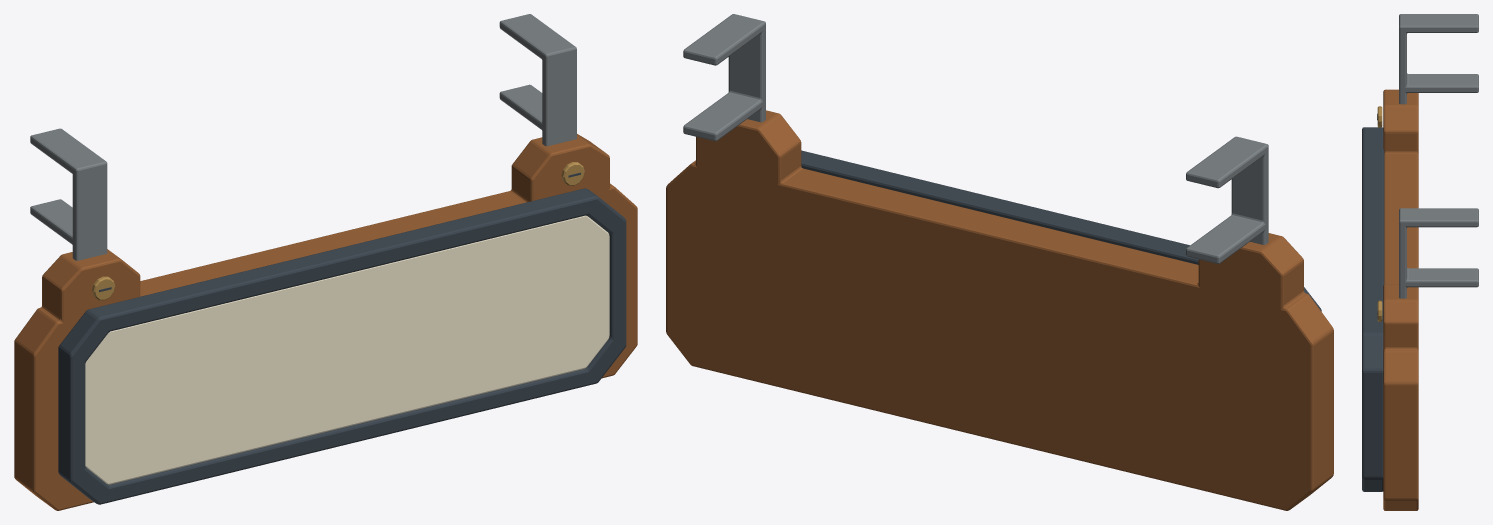
File: shed_price_plaque_v1.fbx
The picture shows the model from 3 angles, left to right: view 1: azimuth 30°, elevation 25°; view 2: azimuth 150°, elevation 25°; view 3: azimuth 270°, elevation 25°; orthographic projection. The views are drawn at different scales.
Visible parts, largest first — view 1: Plaque_CreamEnamel, Plaque_PaintedSteel, Plaque_WarmWood, Plaque_ClipSteel, Plaque_DullBrass; view 2: Plaque_WarmWood, Plaque_ClipSteel, Plaque_PaintedSteel; view 3: Plaque_WarmWood, Plaque_PaintedSteel, Plaque_ClipSteel, Plaque_DullBrass.
Part boxes in pixels (bbox=[...]): Plaque_CreamEnamel: bbox=[85, 215, 609, 484]; Plaque_PaintedSteel: bbox=[58, 172, 626, 504]; Plaque_WarmWood: bbox=[14, 134, 637, 510]; Plaque_ClipSteel: bbox=[30, 14, 576, 260]; Plaque_DullBrass: bbox=[92, 162, 584, 300]; Plaque_WarmWood: bbox=[666, 110, 1333, 510]; Plaque_ClipSteel: bbox=[683, 14, 1268, 263]; Plaque_PaintedSteel: bbox=[801, 150, 1321, 311]; Plaque_WarmWood: bbox=[1383, 89, 1418, 510]; Plaque_PaintedSteel: bbox=[1362, 113, 1384, 491]; Plaque_ClipSteel: bbox=[1399, 14, 1478, 298]; Plaque_DullBrass: bbox=[1377, 106, 1382, 321].
Bounding box in the file's own units: 3.04 × 1.58 × 0.6.
